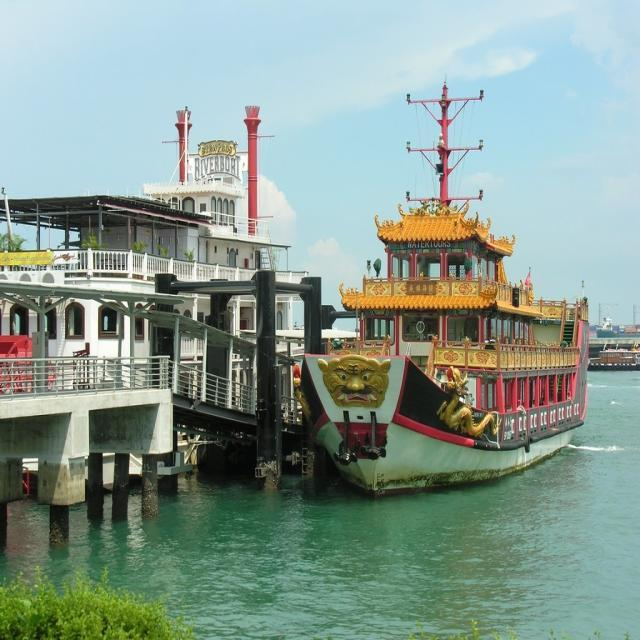boat: (300, 213, 592, 496)
